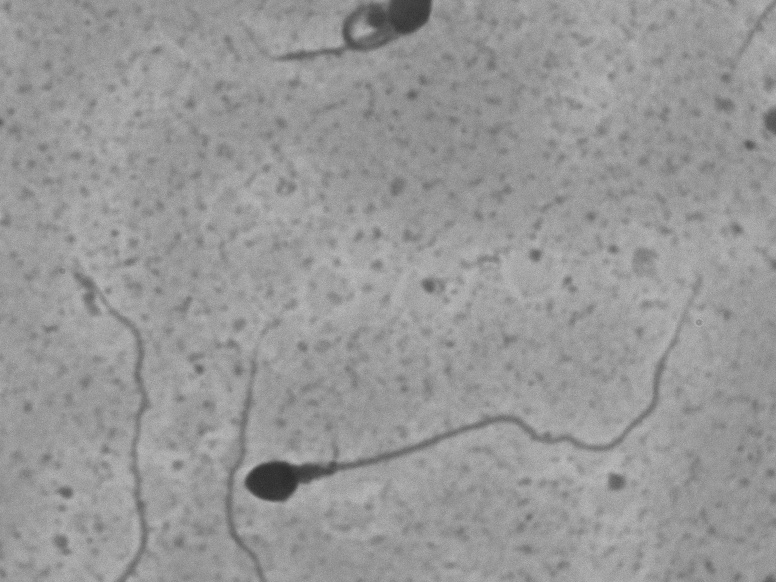Abnormal: (236, 253, 719, 520)
